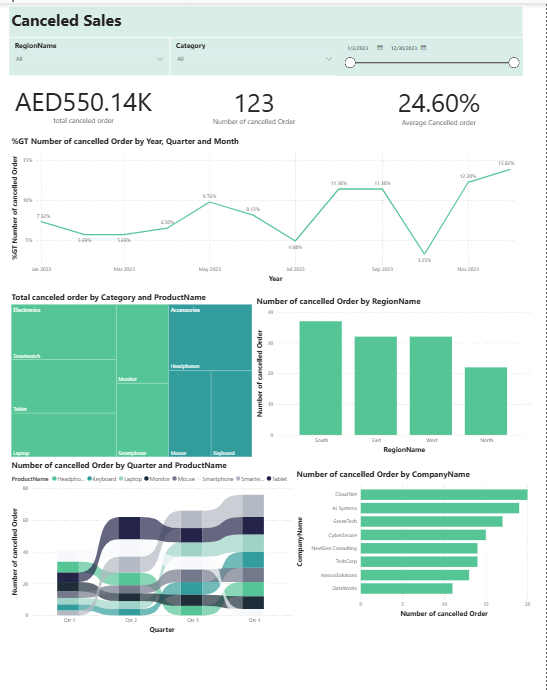

Layout of this report page (visuals, bound fields, positions):
{"tool":"powerbi","page":{"name":"Canceled Sales ","canvas":[1280,2000],"ordinal":1},"visuals":[{"type":"card","fields":{"Values":["Mesure.total canceled order"]},"box":[27.3,167.9,346.9,139.5],"z":0},{"type":"card","fields":{"Values":["Mesure.Number of cancelled Order"]},"box":[443.9,170,308.7,139.5],"z":1000},{"type":"card","fields":{"Values":["Mesure.Average Cancelled order"]},"box":[882.5,170,296,140],"z":2000},{"type":"lineChart","fields":{"Category":["sales.OrderDate.Variation.Date Hierarchy.Year","sales.OrderDate.Variation.Date Hierarchy.Quarter","sales.OrderDate.Variation.Date Hierarchy.Month"],"Y":["Mesure.Number of cancelled Order"]},"box":[25.2,309.6,1201.6,349.3],"z":3000},{"type":"columnChart","fields":{"Category":["Region.RegionName"],"Y":["Mesure.Number of cancelled Order"]},"box":[598.1,683.1,651.6,374.6],"z":4000},{"type":"slicer","fields":{"Values":["Region.RegionName"]},"box":[27.3,80.8,374.6,87.1],"z":5000},{"type":"slicer","fields":{"Values":["Product.Category"]},"box":[401.9,80.8,392.5,87.1],"z":6000},{"type":"slicer","fields":{"Values":["sales.OrderDate"]},"box":[794.4,80.8,432.3,87.1],"z":7000},{"type":"textbox","box":[27.3,9.4,1199.4,71.4],"z":8000},{"type":"treemap","fields":{"Details":["Product.ProductName"],"Group":["Product.Category"],"Values":["Mesure.total canceled order"]},"box":[25.2,675.8,572.2,391],"z":9000},{"type":"ribbonChart","fields":{"Category":["sales.OrderDate.Variation.Date Hierarchy.Year","sales.OrderDate.Variation.Date Hierarchy.Quarter"],"Series":["Product.ProductName"],"Y":["Mesure.Number of cancelled Order"]},"box":[27.3,1067.2,665,413.3],"z":10000},{"type":"barChart","fields":{"Category":["customer.CompanyName"],"Y":["Mesure.Number of cancelled Order"]},"box":[692.6,1086.1,557.2,354.7],"z":11000}]}

Visuals, with their boxes on the page's 1280x2000 design canvas (x1, y1, x2, y2). These are canvas units, not pixel positions in the 547x690 screenshot, which may show the page scaled, cropped or inside an application window:
card - Mesure.total canceled order: {"x1": 27, "y1": 168, "x2": 374, "y2": 307}
card - Mesure.Number of cancelled Order: {"x1": 444, "y1": 170, "x2": 753, "y2": 310}
card - Mesure.Average Cancelled order: {"x1": 882, "y1": 170, "x2": 1178, "y2": 310}
lineChart - sales.OrderDate.Variation.Date Hierarchy.Year x sales.OrderDate.Variation.Date Hierarchy.Quarter: {"x1": 25, "y1": 310, "x2": 1227, "y2": 659}
columnChart - Region.RegionName x Mesure.Number of cancelled Order: {"x1": 598, "y1": 683, "x2": 1250, "y2": 1058}
slicer - Region.RegionName: {"x1": 27, "y1": 81, "x2": 402, "y2": 168}
slicer - Product.Category: {"x1": 402, "y1": 81, "x2": 794, "y2": 168}
slicer - sales.OrderDate: {"x1": 794, "y1": 81, "x2": 1227, "y2": 168}
textbox: {"x1": 27, "y1": 9, "x2": 1227, "y2": 81}
treemap - Product.ProductName x Product.Category: {"x1": 25, "y1": 676, "x2": 597, "y2": 1067}
ribbonChart - sales.OrderDate.Variation.Date Hierarchy.Year x sales.OrderDate.Variation.Date Hierarchy.Quarter: {"x1": 27, "y1": 1067, "x2": 692, "y2": 1480}
barChart - customer.CompanyName x Mesure.Number of cancelled Order: {"x1": 693, "y1": 1086, "x2": 1250, "y2": 1441}
